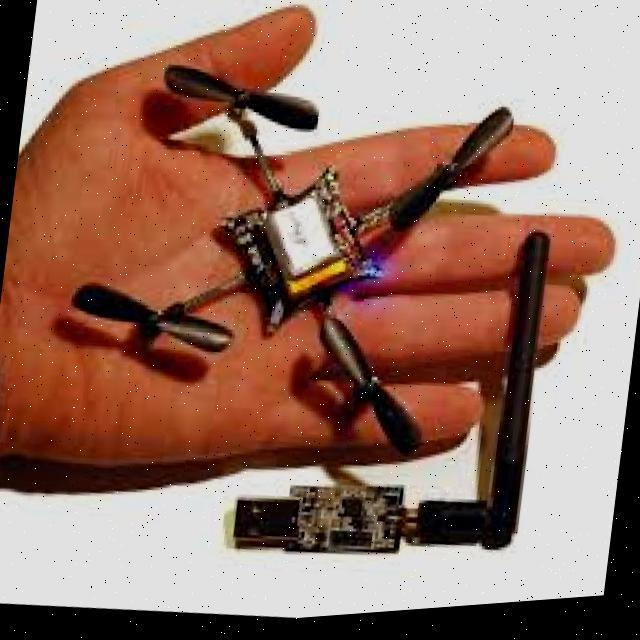drone: (61, 31, 517, 502)
